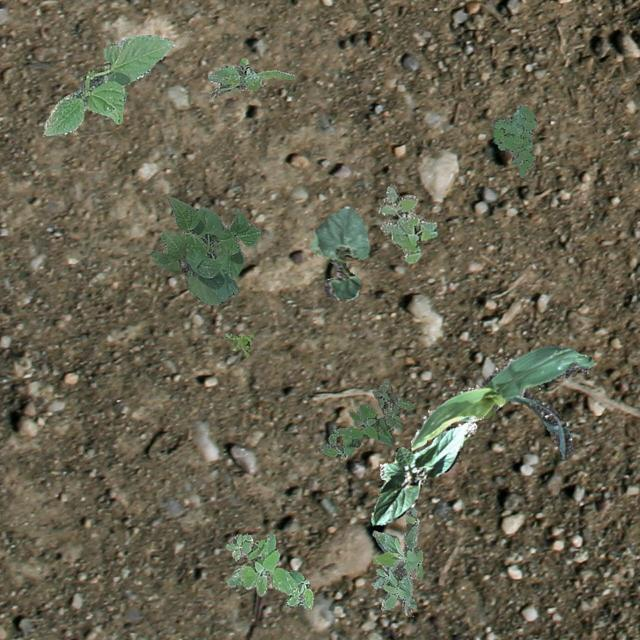crop: (410, 344, 592, 456), (42, 34, 172, 134), (148, 193, 258, 304), (370, 421, 476, 524), (312, 204, 368, 300), (480, 409, 496, 419)
weed: (316, 379, 414, 456), (225, 532, 312, 608), (372, 506, 422, 614), (378, 180, 436, 262), (208, 56, 294, 98), (490, 102, 536, 176), (224, 332, 252, 356)
